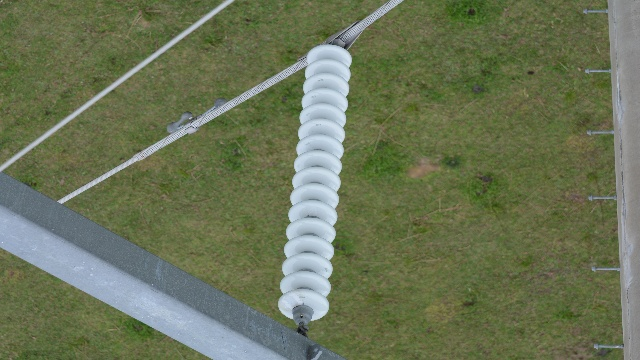insulator_unspecified: (279, 46, 353, 322)
pollution_flashover_local: (278, 289, 304, 311), (306, 204, 318, 217)
